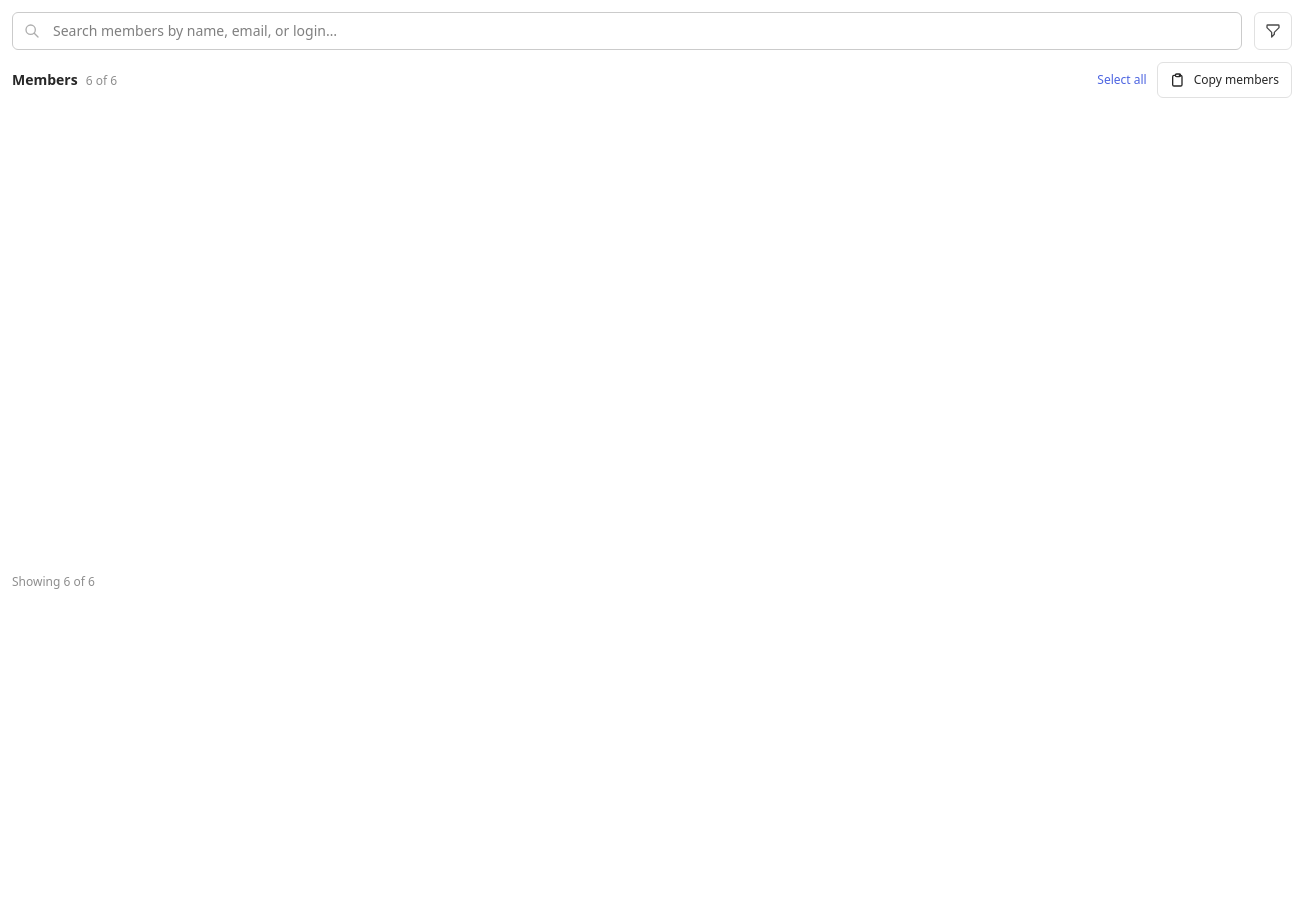
Test case: MemberExplorer filtering › composes a filter with the search text
Click the button named "Filters".
click(1273, 31)  # box [1254,12,1292,50]
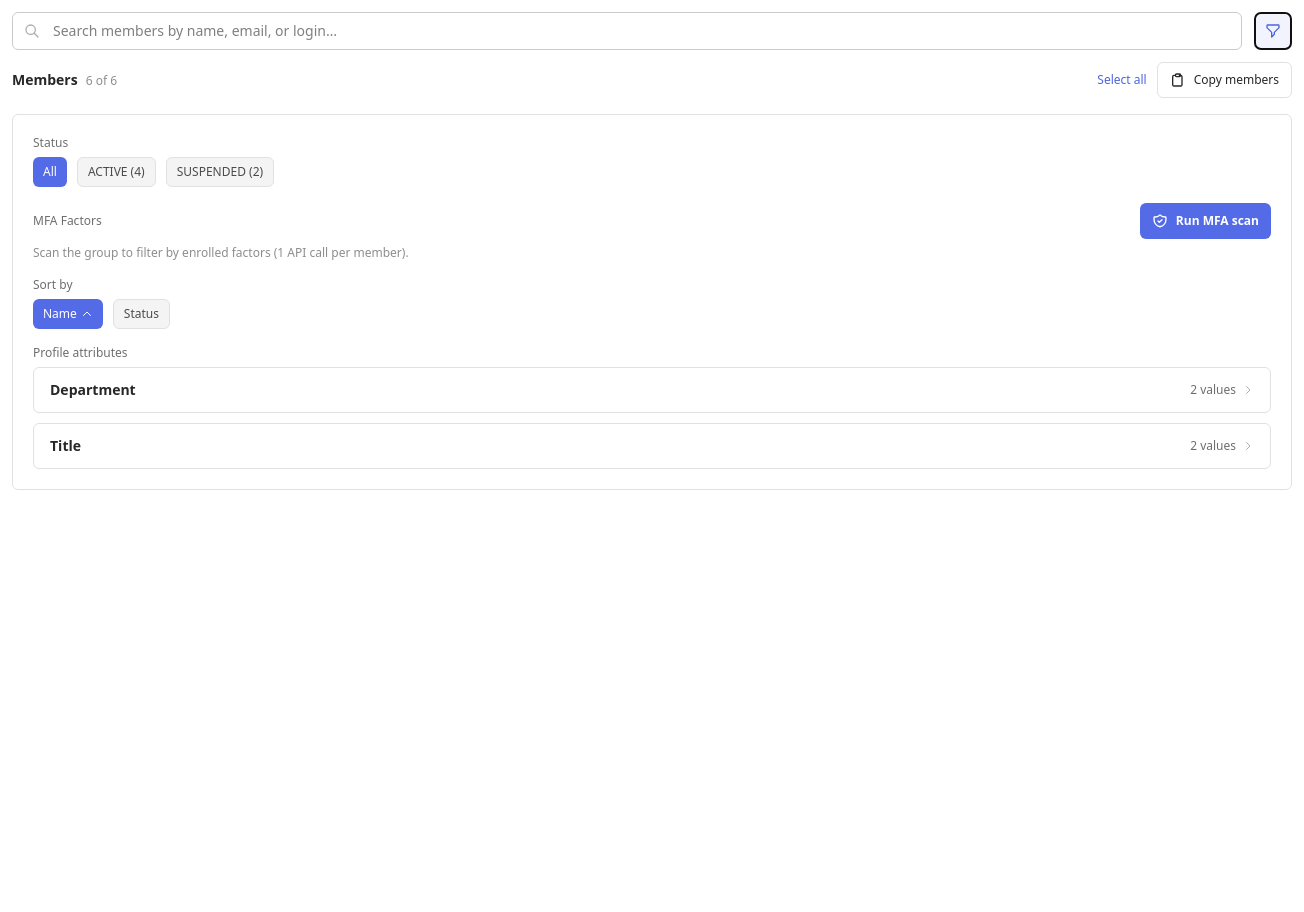
Click the button "ACTIVE (4)".
click(116, 172)  # box [77,157,156,187]
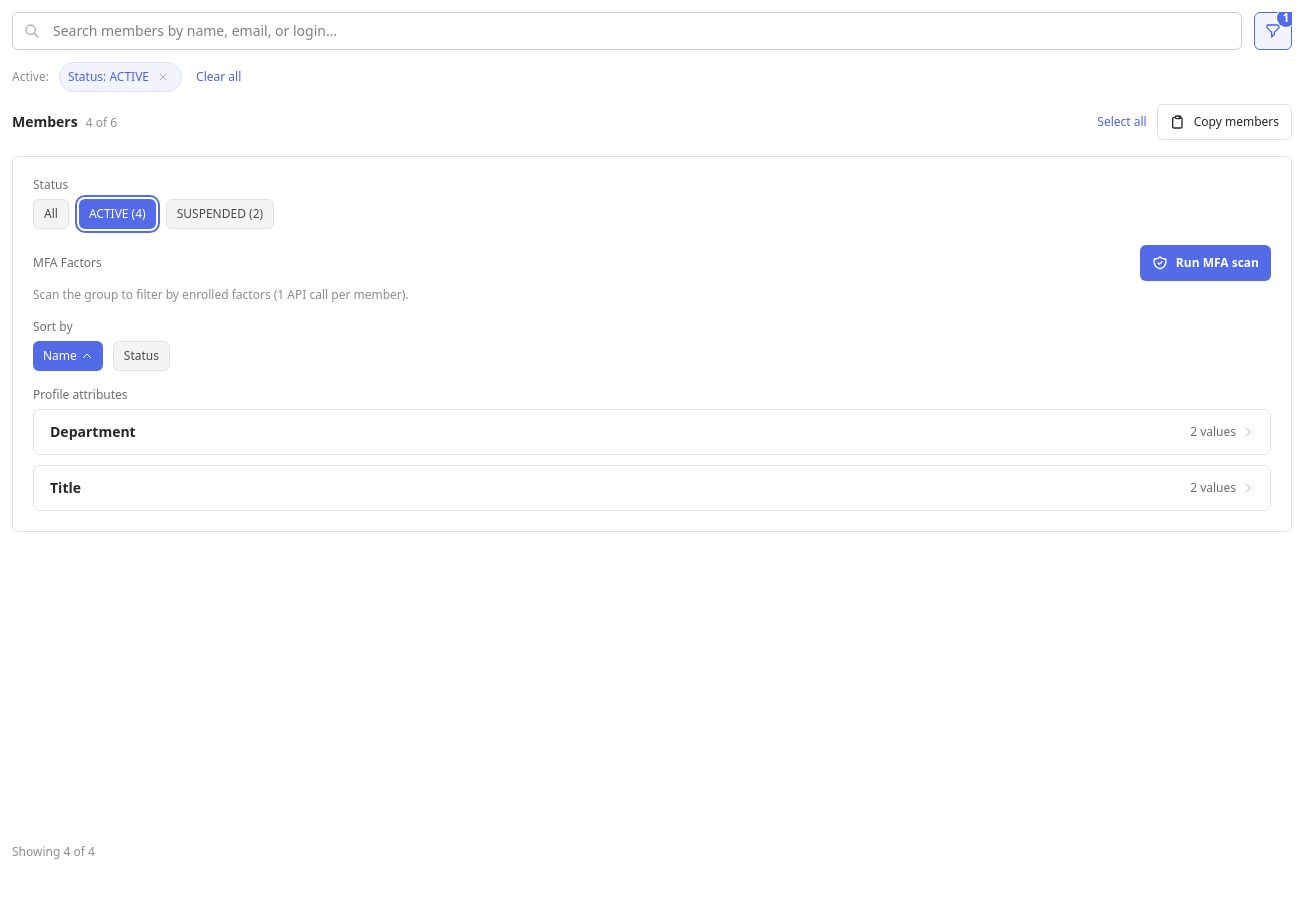
Type "grace" into the search field.
click(627, 31); type("grace")  # box [12,12,1242,50]
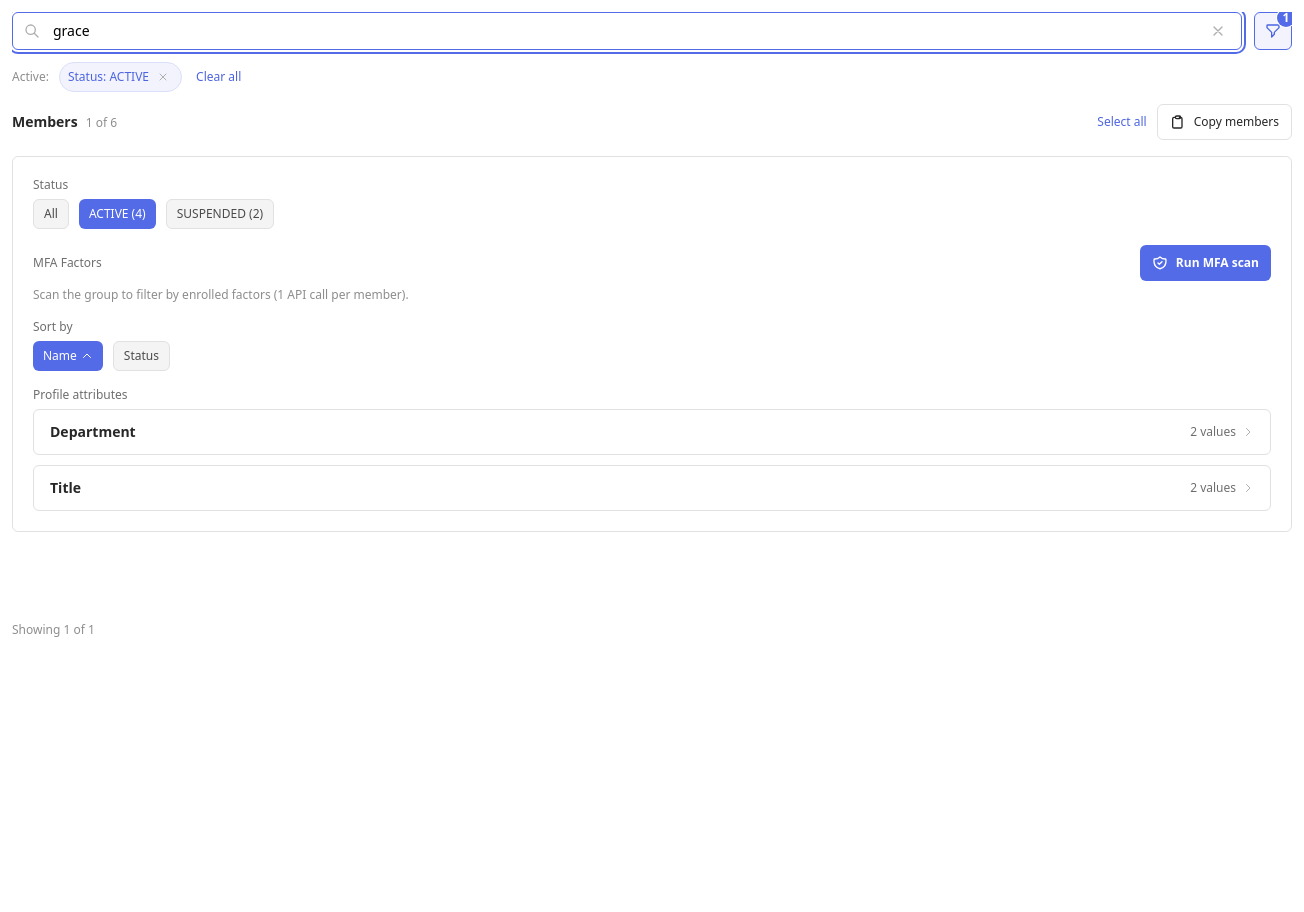
Expected: the text "1 of 6" is shown, [86,114,117,131]
